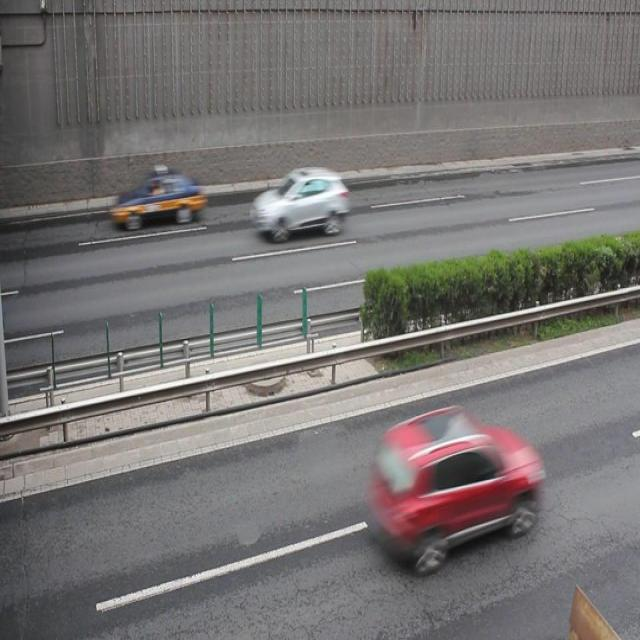car: (377, 404, 539, 564), (252, 167, 348, 234), (111, 166, 206, 227)
